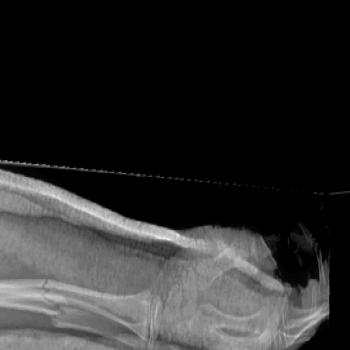Fracture: (37, 266, 55, 308)
